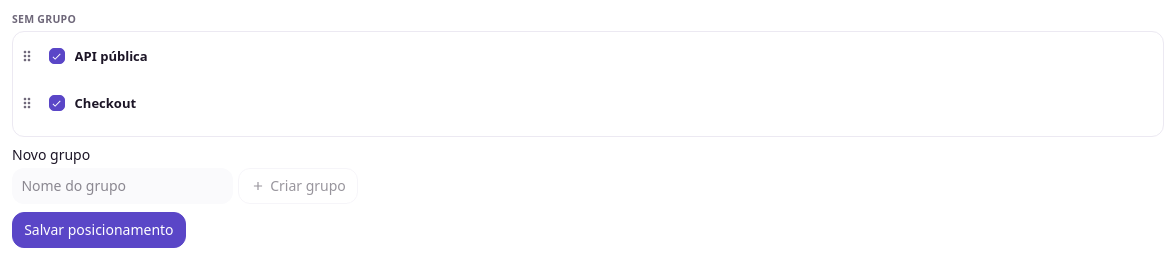
Test: ServiceGroupPanel › surfaces a 422 placement-rule violation inline instead of failing silently
The image size is (1164, 265).
Click the button "Salvar posicionamento" at [99, 230], box [12, 212, 186, 248]
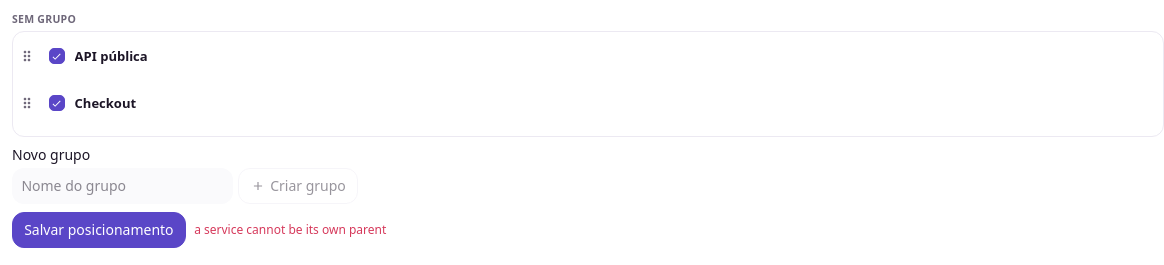
Now the message reads "a service cannot be its own parent", box [194, 221, 386, 238]
